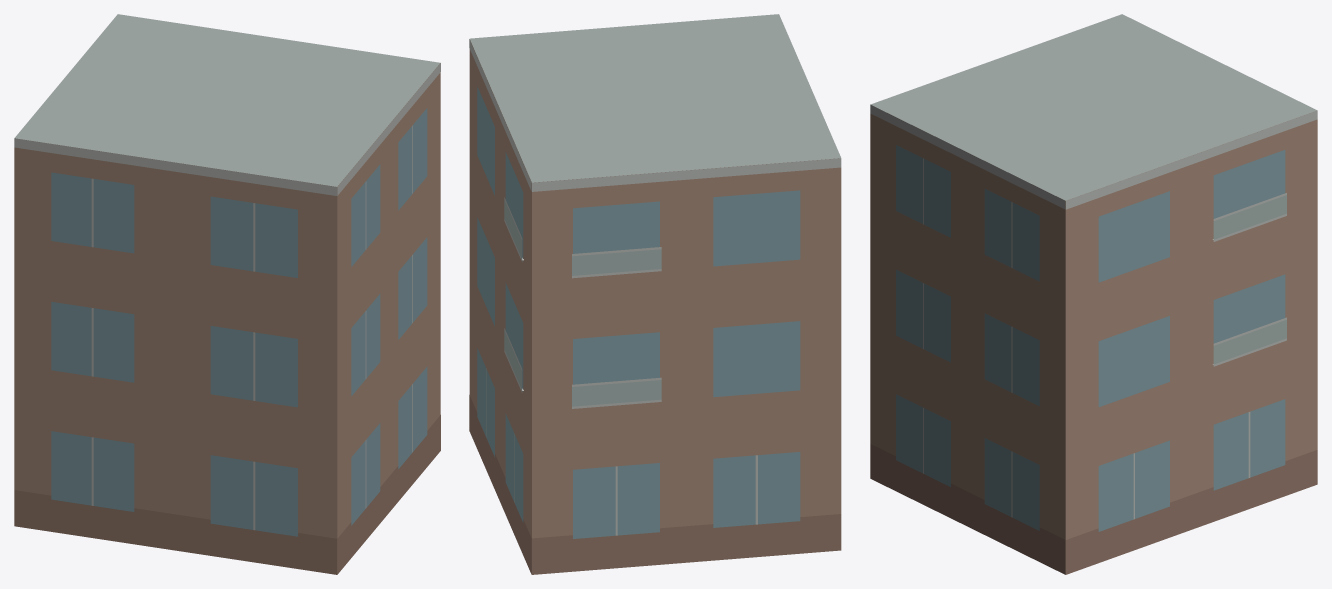
Rendered from survey-upis-32486911.glb.
The picture shows the model from 3 angles, left to right: view 1: azimuth 30°, elevation 25°; view 2: azimuth 150°, elevation 25°; view 3: azimuth 270°, elevation 25°; orthographic projection. The views are drawn at different scales.
Parts seen in each view (by area): view 1: survey-upis-32486911.tmp; view 2: survey-upis-32486911.tmp; view 3: survey-upis-32486911.tmp.
Boxes of the visible parts, x1,y1,x2,y2 form: survey-upis-32486911.tmp: (14, 14, 440, 574); survey-upis-32486911.tmp: (469, 14, 841, 574); survey-upis-32486911.tmp: (870, 14, 1317, 574).
Bounding box in the file's own units: 10.98 × 10.24 × 11.11.
